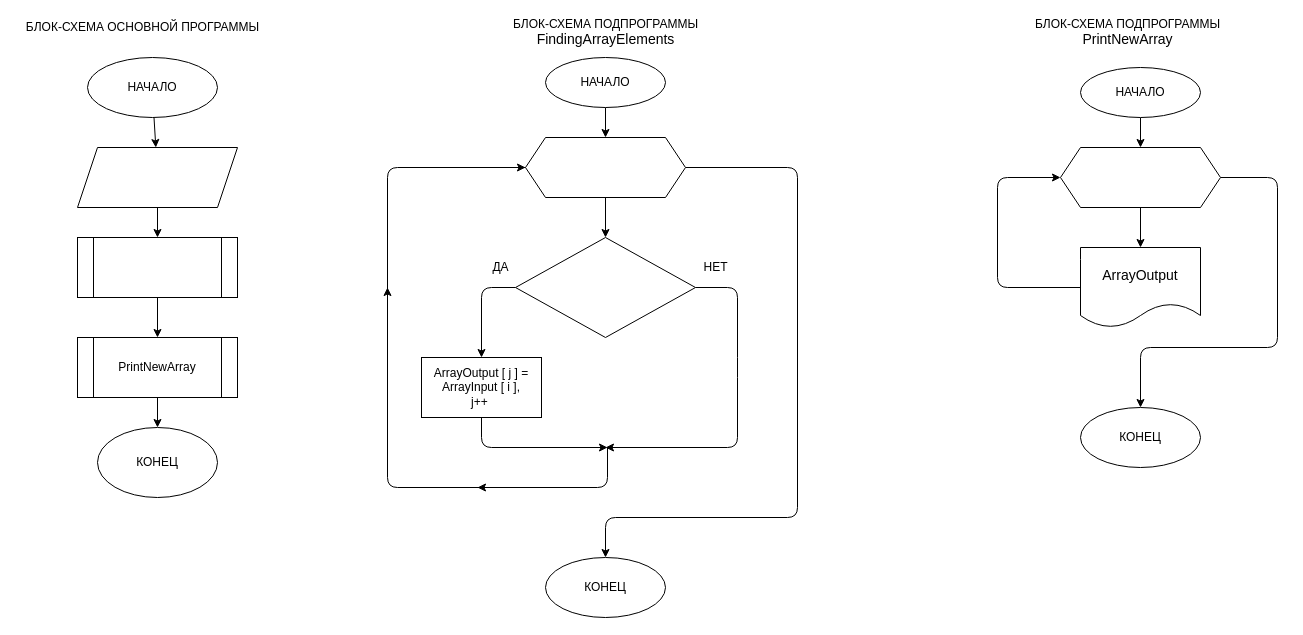
This 1303x635 diagram has some shape labels left out. The shapes that lost their labels are listed below. From the top down, each one's centre as x and y in pixels, then its label:
pixel 157 177: index, ArrayInput, ArrayOutput, j
pixel 605 167: i = 0, ArrayInput.Length
pixel 1140 177: i = 0, j
pixel 157 267: FindingArrayElements
pixel 605 287: ArrayInput [ i ].Length <= 3
